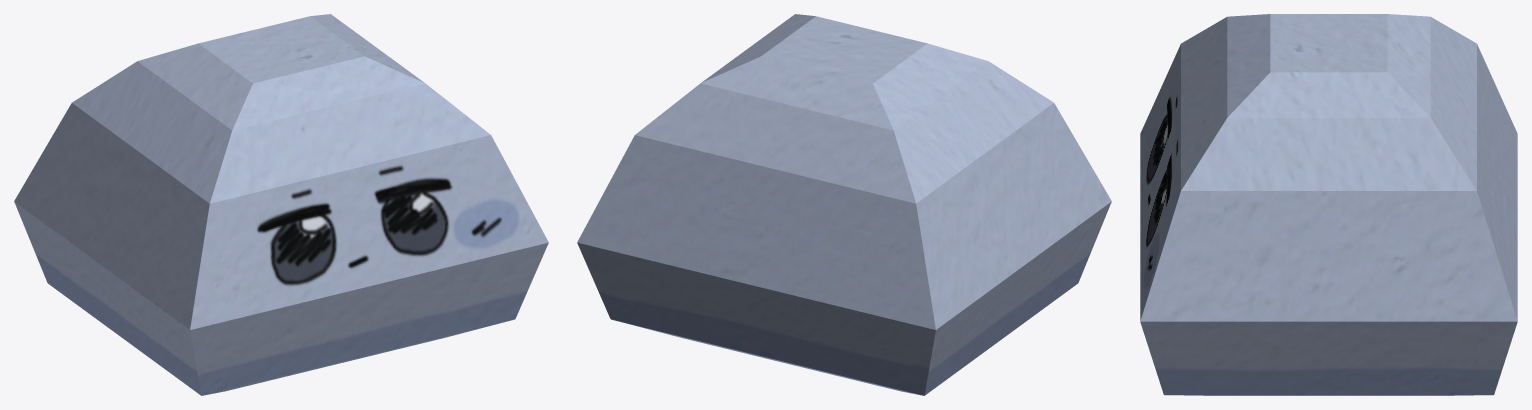
The model's file is слайм2.fbx.
The picture shows the model from 3 angles, left to right: view 1: azimuth 30°, elevation 25°; view 2: azimuth 150°, elevation 25°; view 3: azimuth 270°, elevation 25°; orthographic projection. The views are drawn at different scales.
Parts seen in each view (by area): view 1: Cube; view 2: Cube; view 3: Cube.
Part boxes in pixels (bbox=[...]): Cube: bbox=[14, 14, 548, 395]; Cube: bbox=[577, 14, 1111, 395]; Cube: bbox=[1140, 14, 1517, 395].
Bounding box in the file's own units: 198 × 145 × 168.
